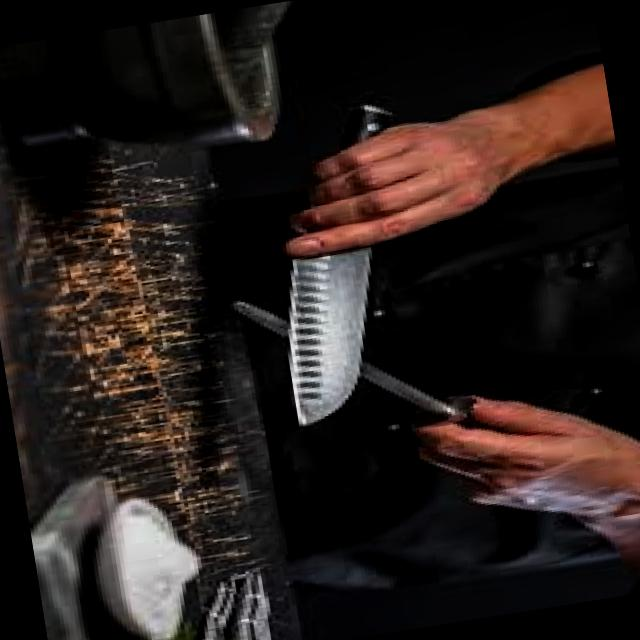knife: (229, 243, 374, 429)
